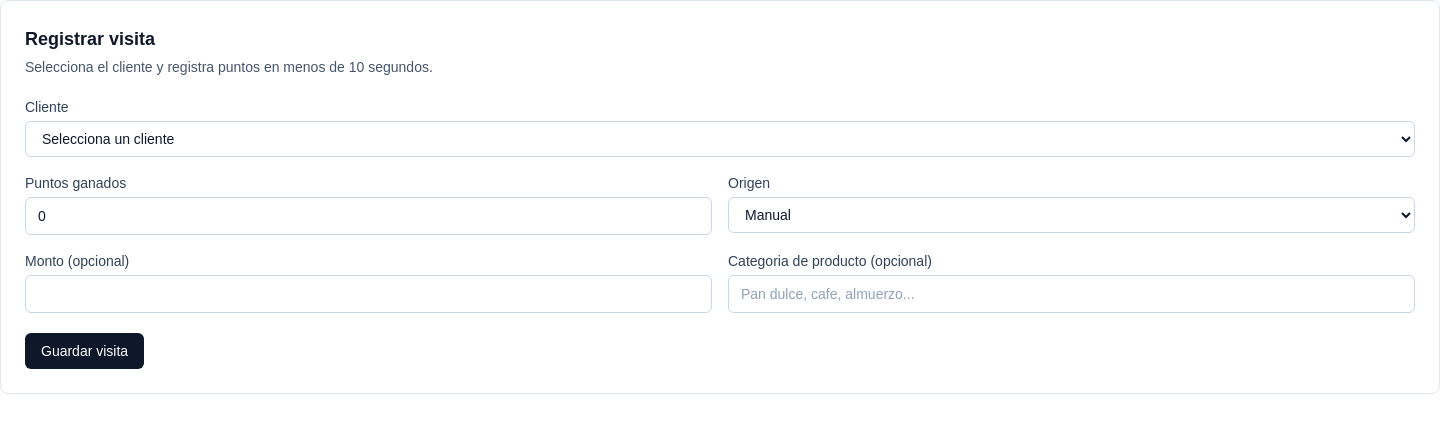
Test: VisitForm integration › validation and error display › shows validation error when customer is not selected and form is submitted
What coordinates should you click on to do the following:
click the button "Guardar visita"
I would click on:
 (85, 351)
Its box is [25, 333, 144, 369].
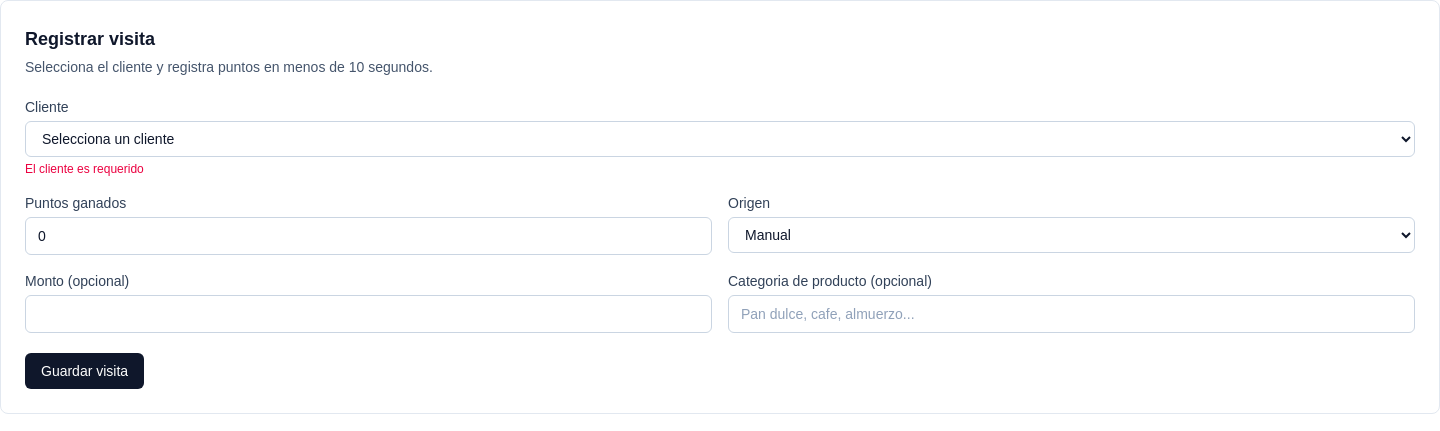
Check: the text "El cliente es requerido" is shown, box [25, 162, 144, 176]
